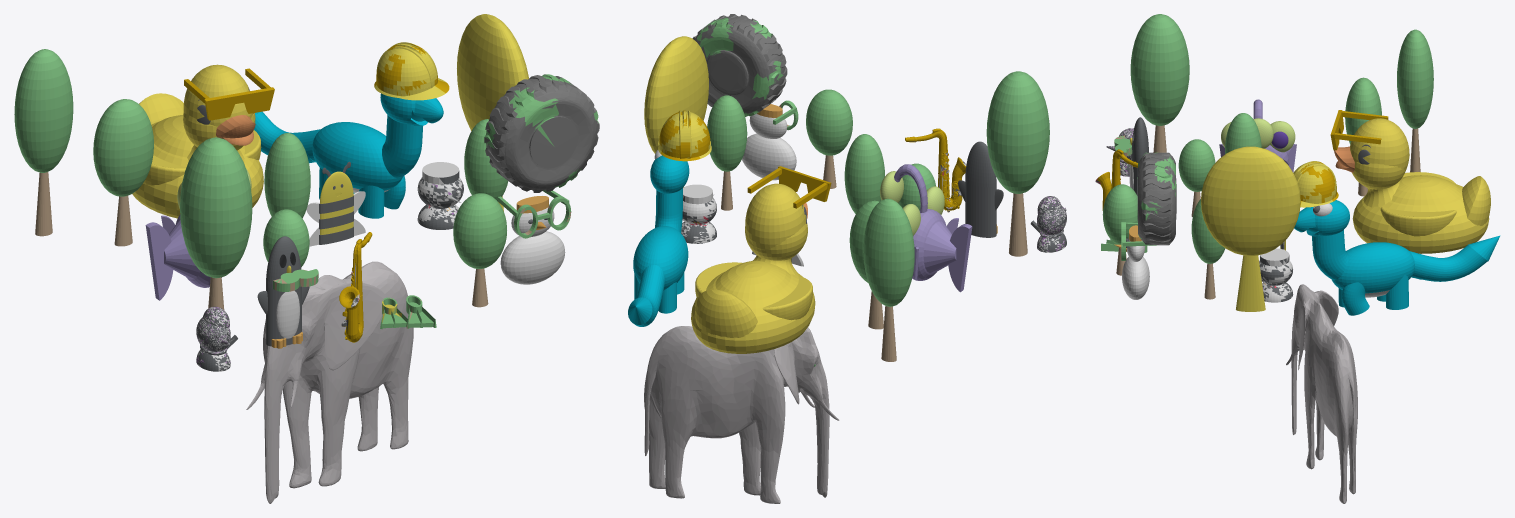
The model's file is Magnificent Krunk.glb.
3 views of the same model, side by side, from view 1: azimuth 30°, elevation 25°; view 2: azimuth 150°, elevation 25°; view 3: azimuth 270°, elevation 25° (orthographic). The views are drawn at different scales.
Visible parts, largest first — view 1: Mesh_Mesh_head_geo.001_lambert2SG.001; view 2: Mesh_Mesh_head_geo.001_lambert2SG.001; view 3: Mesh_Mesh_head_geo.001_lambert2SG.001.
Part boxes in pixels (x1,y1,x2,y2): Mesh_Mesh_head_geo.001_lambert2SG.001: [14, 14, 599, 503]; Mesh_Mesh_head_geo.001_lambert2SG.001: [628, 14, 1066, 503]; Mesh_Mesh_head_geo.001_lambert2SG.001: [1095, 14, 1500, 503].
Bounding box in the file's own units: 206 × 221 × 219.
